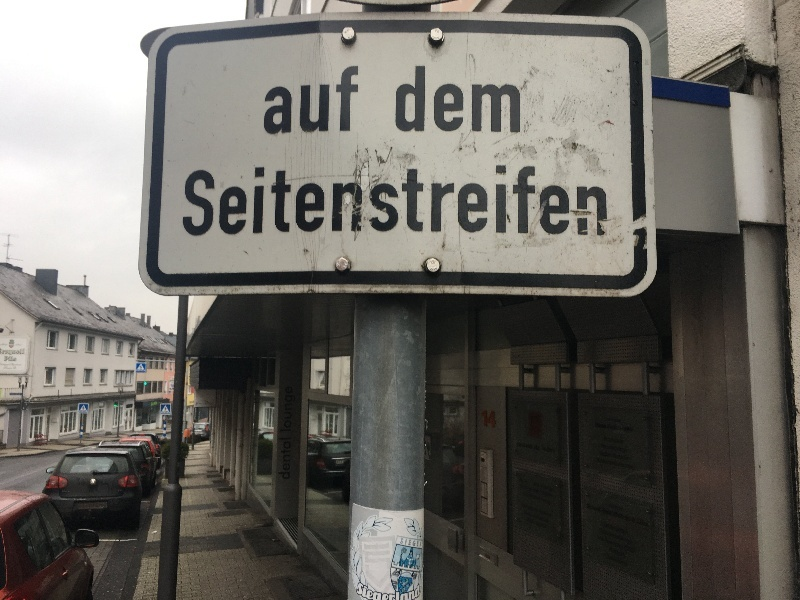text: (593, 163, 609, 237), (193, 163, 208, 237), (209, 163, 224, 237), (225, 163, 240, 237), (241, 163, 256, 237), (257, 163, 272, 237), (273, 163, 288, 237), (289, 163, 304, 237), (305, 163, 320, 237), (321, 163, 336, 237), (337, 163, 352, 237), (353, 163, 368, 237), (369, 163, 384, 237), (385, 163, 400, 237), (401, 163, 416, 237), (417, 163, 432, 237), (433, 163, 448, 237), (449, 163, 464, 237), (465, 163, 480, 237), (481, 163, 496, 237), (497, 163, 512, 237), (513, 163, 528, 237), (529, 163, 544, 237), (545, 163, 560, 237), (561, 163, 576, 237), (577, 163, 592, 237), (401, 66, 416, 134), (417, 66, 432, 134), (433, 66, 448, 134), (449, 66, 464, 134), (465, 66, 480, 134), (481, 66, 496, 134), (497, 66, 512, 134), (273, 67, 288, 135), (289, 67, 304, 135), (305, 67, 320, 135), (321, 67, 336, 135), (337, 67, 352, 135), (529, 478, 544, 531), (609, 522, 624, 572), (289, 385, 296, 481), (513, 66, 522, 134), (625, 522, 637, 572), (282, 385, 288, 481), (545, 478, 555, 531), (185, 163, 192, 237), (265, 67, 272, 135), (520, 478, 528, 531), (353, 67, 359, 135), (593, 503, 608, 528), (609, 503, 624, 528), (625, 503, 640, 528), (601, 522, 608, 572), (395, 66, 400, 134), (483, 409, 496, 431), (641, 503, 650, 528), (529, 442, 544, 454), (401, 538, 416, 548), (609, 422, 624, 432), (517, 442, 528, 454), (587, 503, 592, 528), (545, 442, 555, 454), (596, 422, 608, 432), (625, 422, 633, 432), (497, 409, 500, 431), (417, 538, 422, 548)
